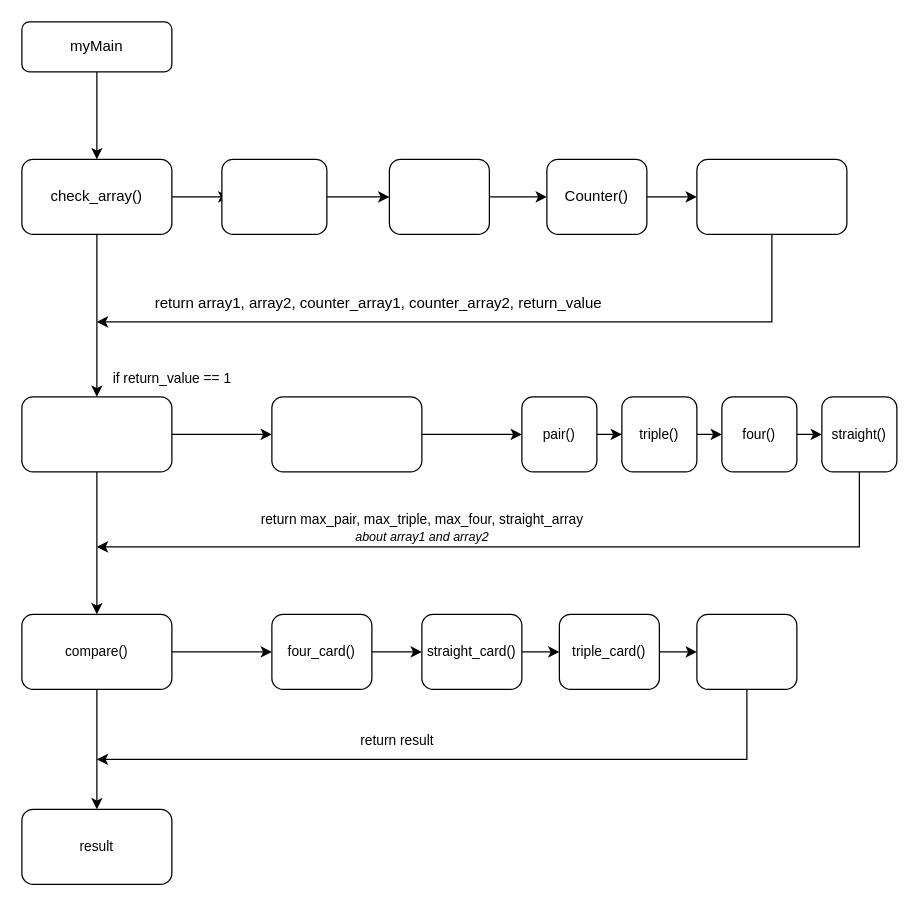
Image size: 919x906. Some labels were removed from this diagram. The shapes that lost their labels are listed below. From the top down, each one's centre as x and y in pixels, then its label:
At (x=274, y=196): "get_input()".
At (x=438, y=196): "split_array()".
At (x=771, y=196): "check_array_condition ()".
At (x=96, y=434): "check_condition()".
At (x=346, y=434): "check_condition_all()".
At (x=746, y=651): "pair_card()".
